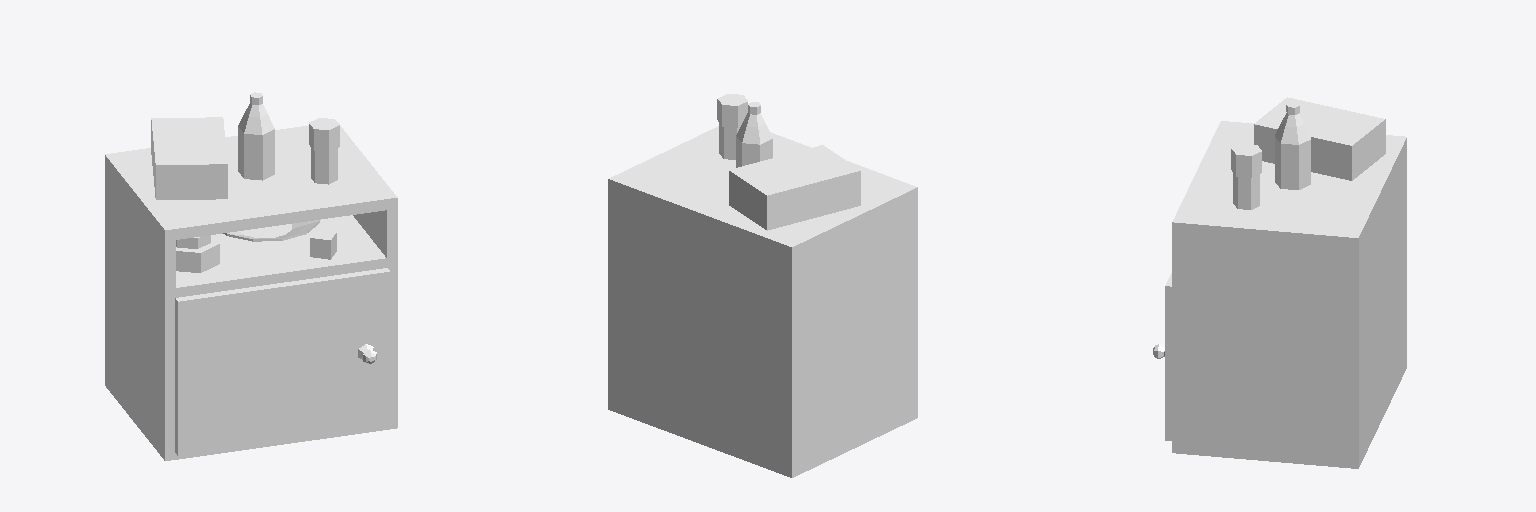
The model's file is nightstand.obj.
3 renders of one model, left to right at view 1: azimuth 30°, elevation 25°; view 2: azimuth 150°, elevation 25°; view 3: azimuth 270°, elevation 25°, orthographic.
Parts seen in each view (by area): view 1: nightstand; view 2: nightstand; view 3: nightstand.
Boxes of the visible parts, box(x1,y1,x2,y2) form: nightstand: box(105, 92, 397, 460); nightstand: box(608, 94, 917, 477); nightstand: box(1153, 97, 1406, 468).
Size of the model in its own units: 73.86 by 90.52 by 67.6.